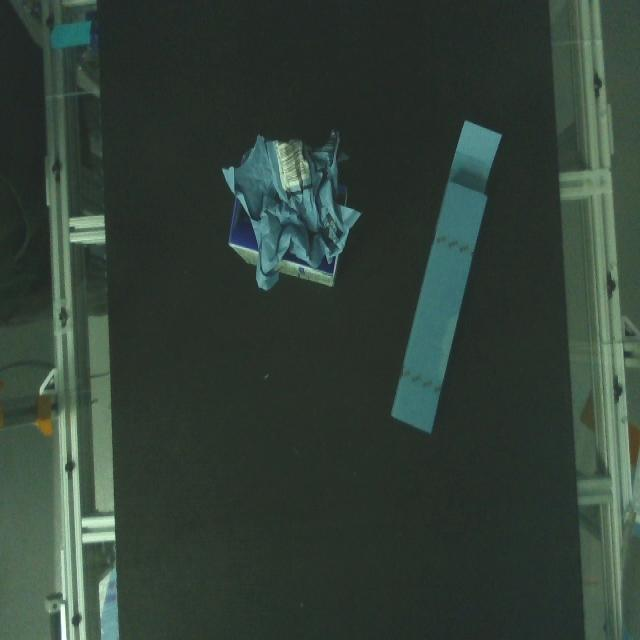paper: (387, 108, 508, 439), (212, 118, 364, 310), (229, 175, 347, 298)
